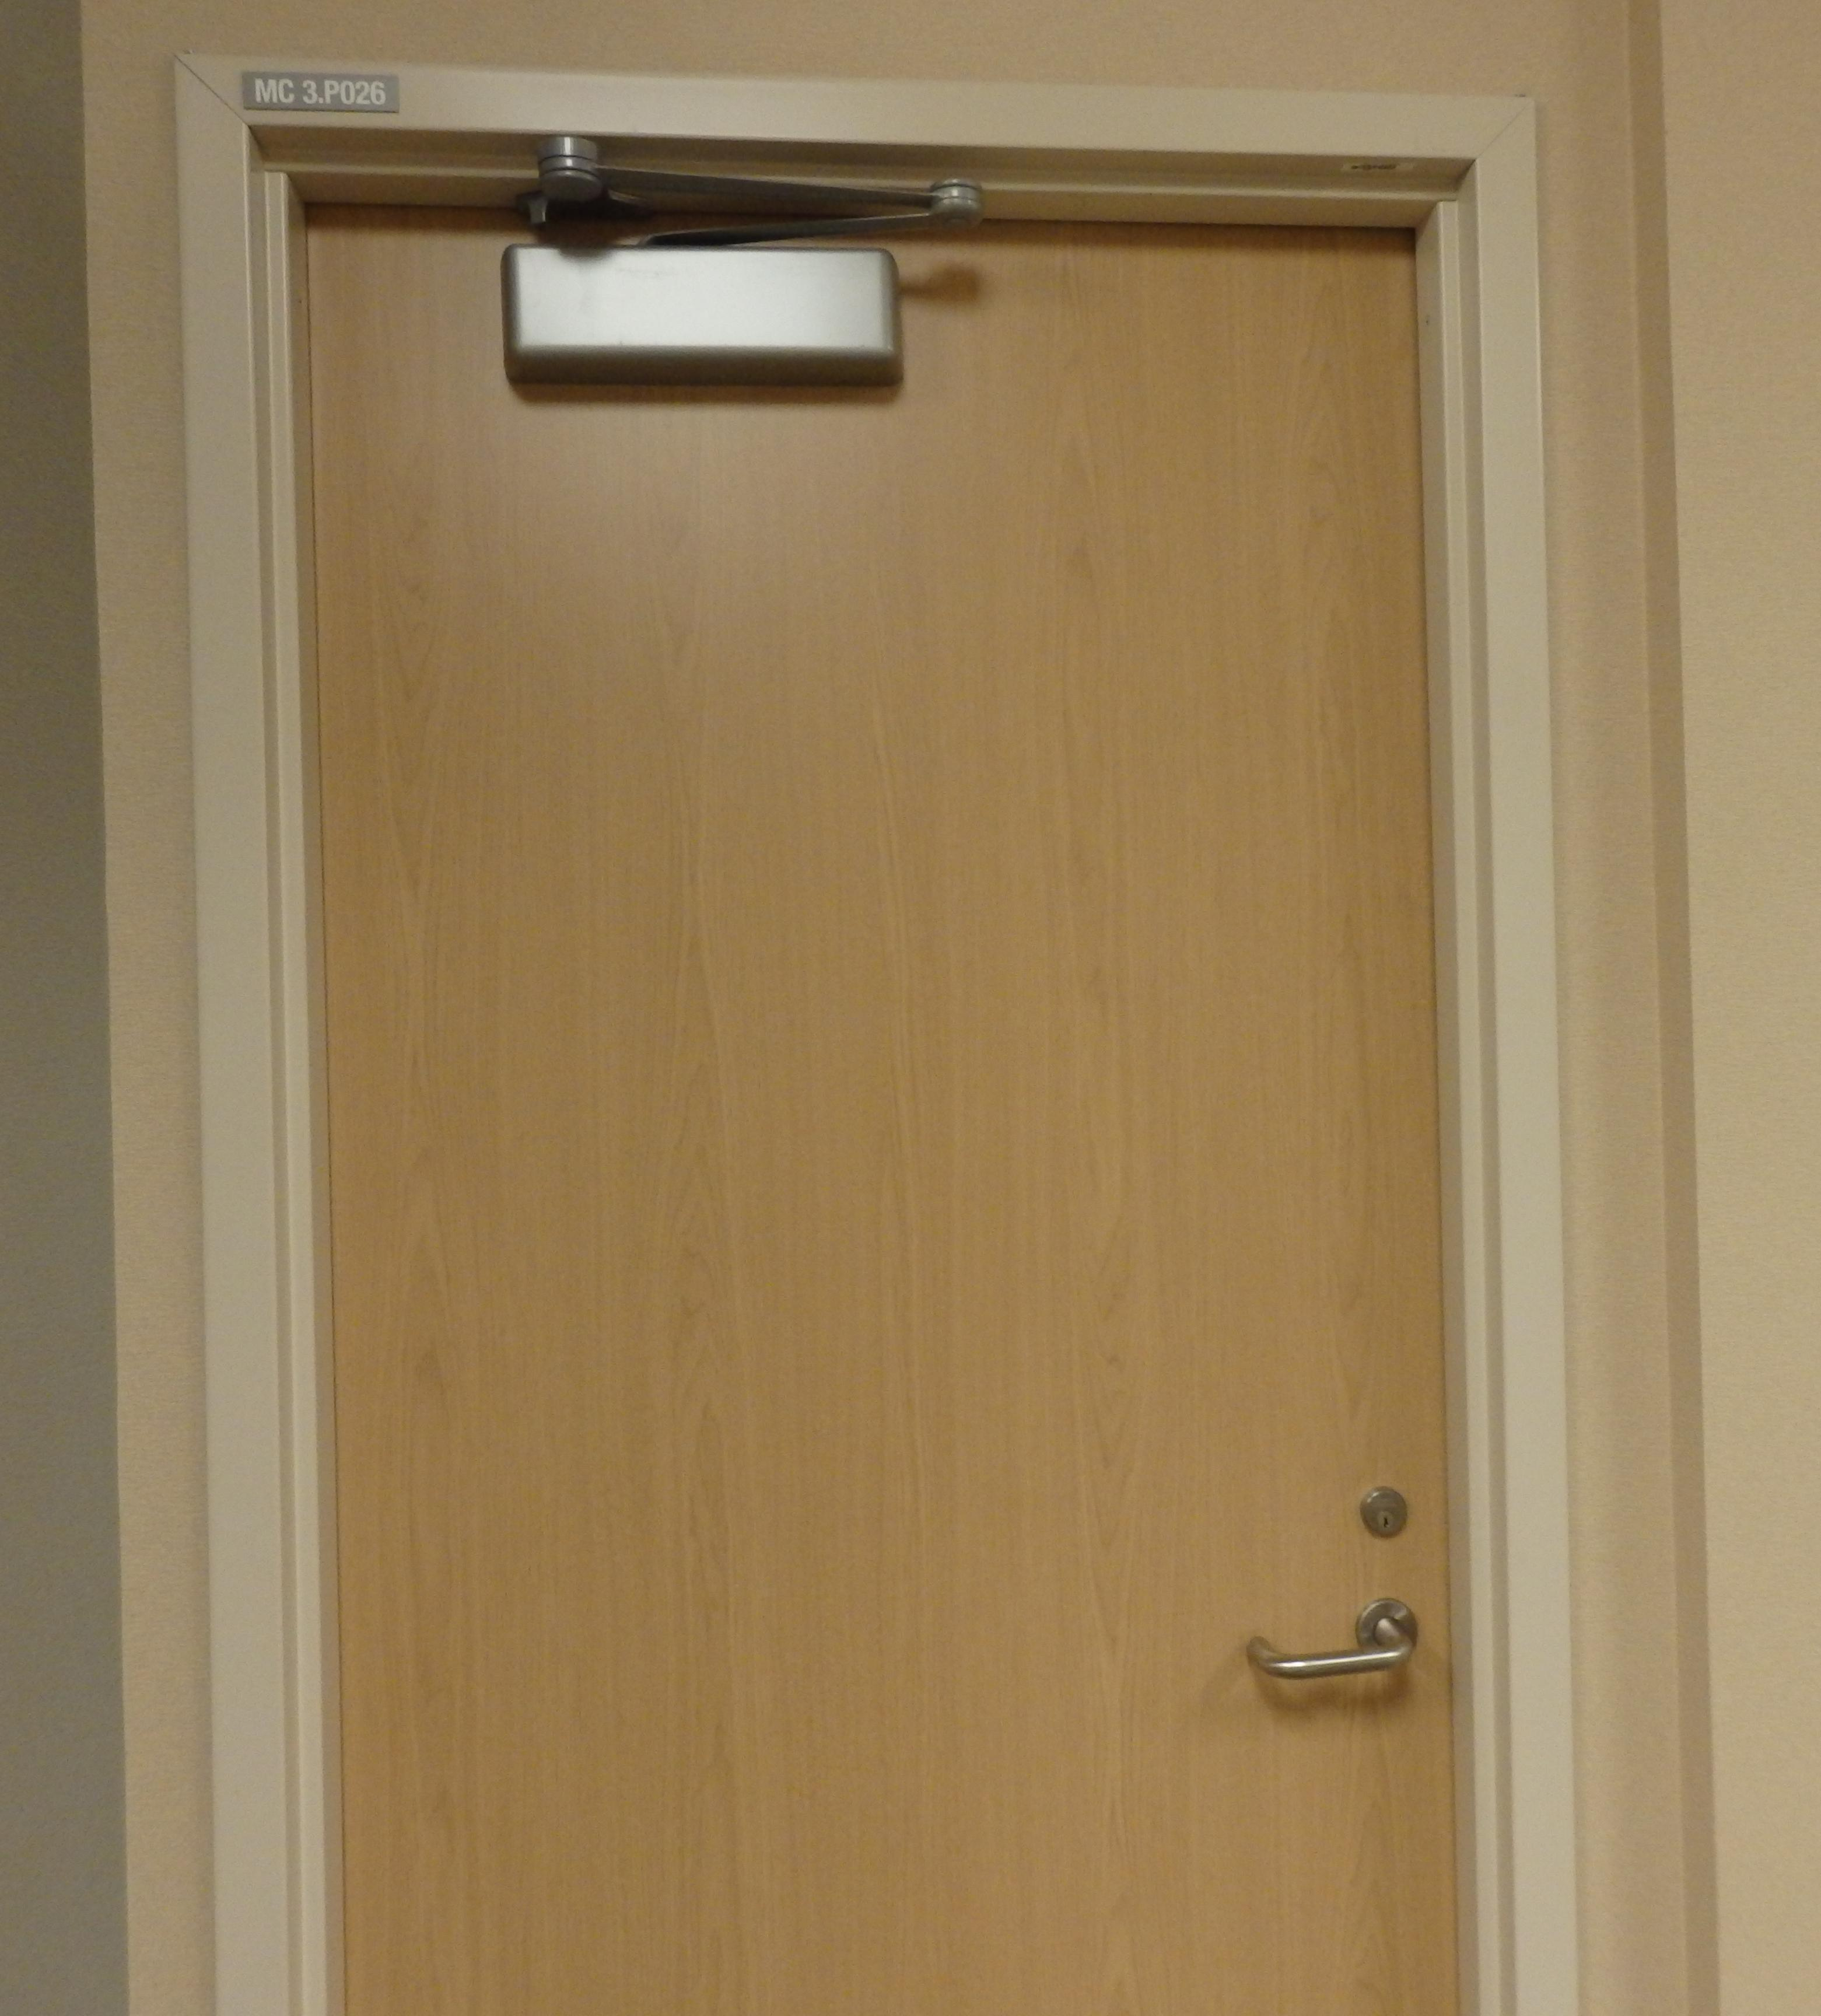door: (277, 190, 1450, 2016)
